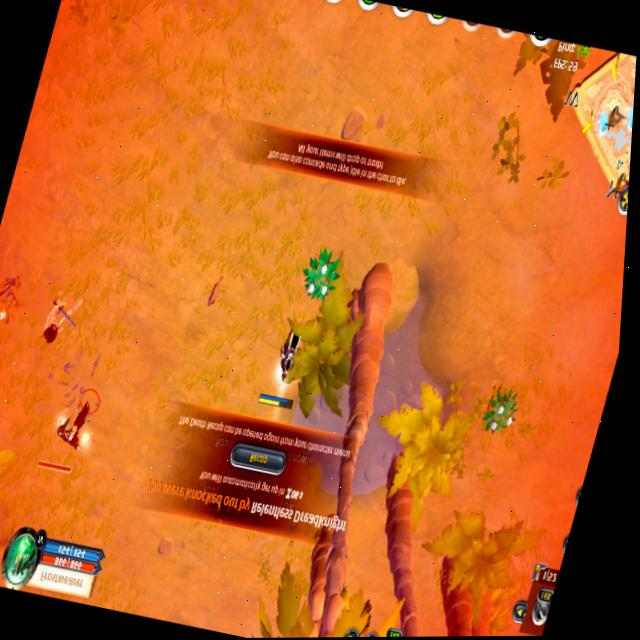hide: (296, 241, 345, 309), (479, 382, 522, 441), (0, 270, 26, 332)
ore: (31, 382, 105, 483), (31, 281, 90, 356)
red: (255, 327, 311, 414)
